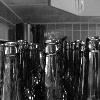beer: (33, 39, 70, 97)
